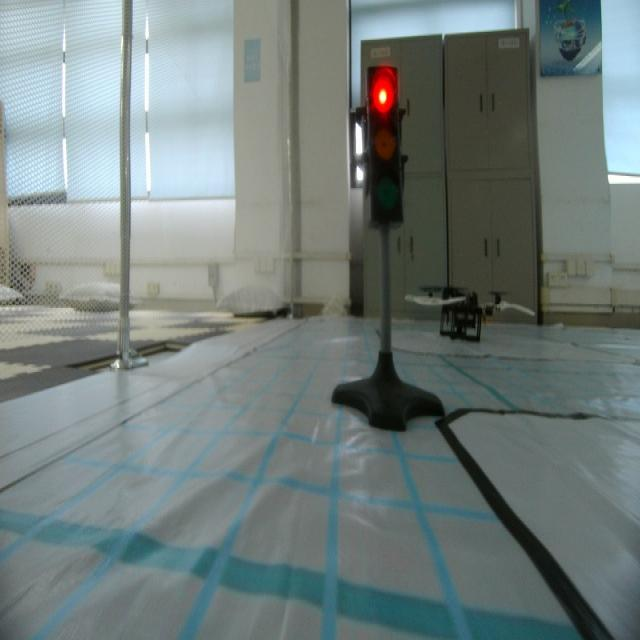red: (363, 58, 409, 236)
